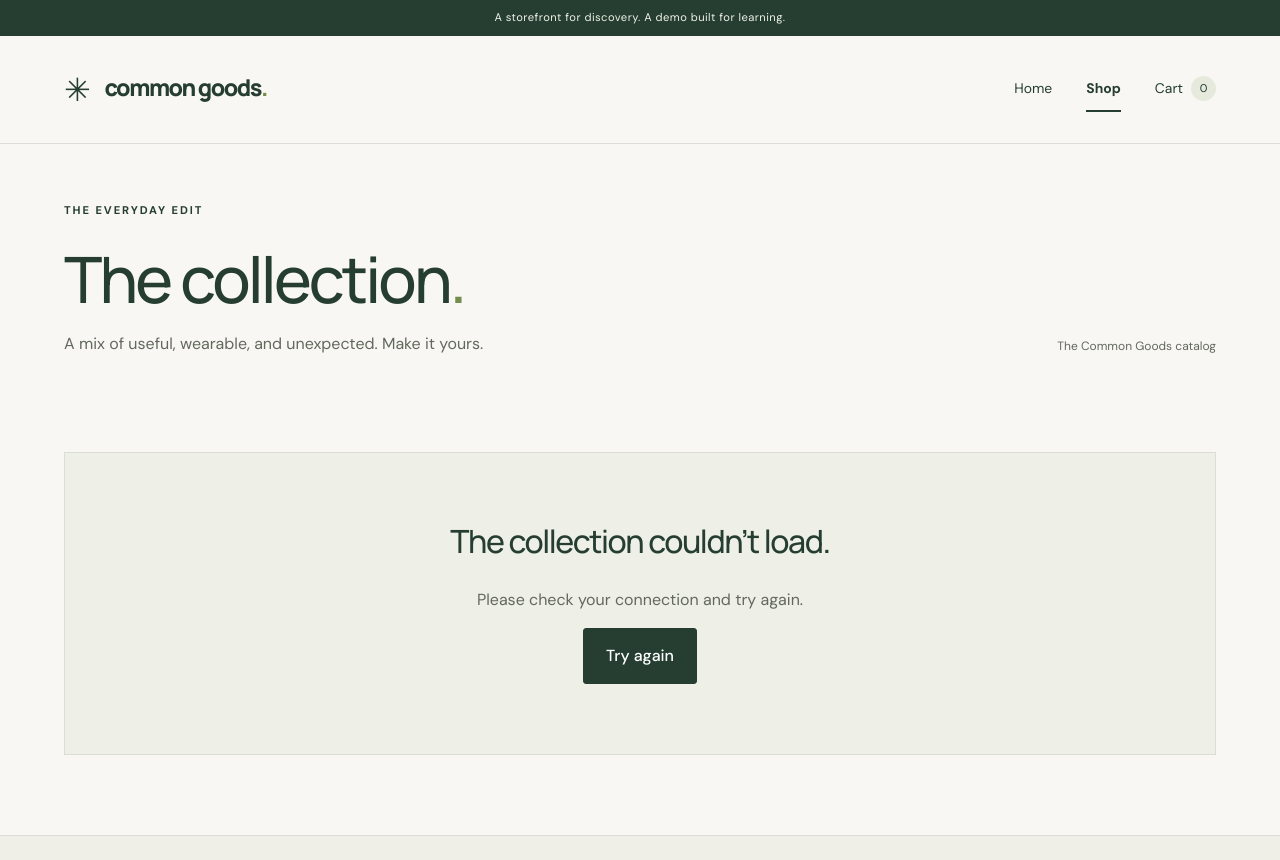
Scenario: catalog and navigation › handles a rejected request and an empty retry
Check: the message that starts with "The collection couldn’t load." is shown, box [64,452,1216,755]
Click the button "Try again": (640, 656) [583,628,697,684]
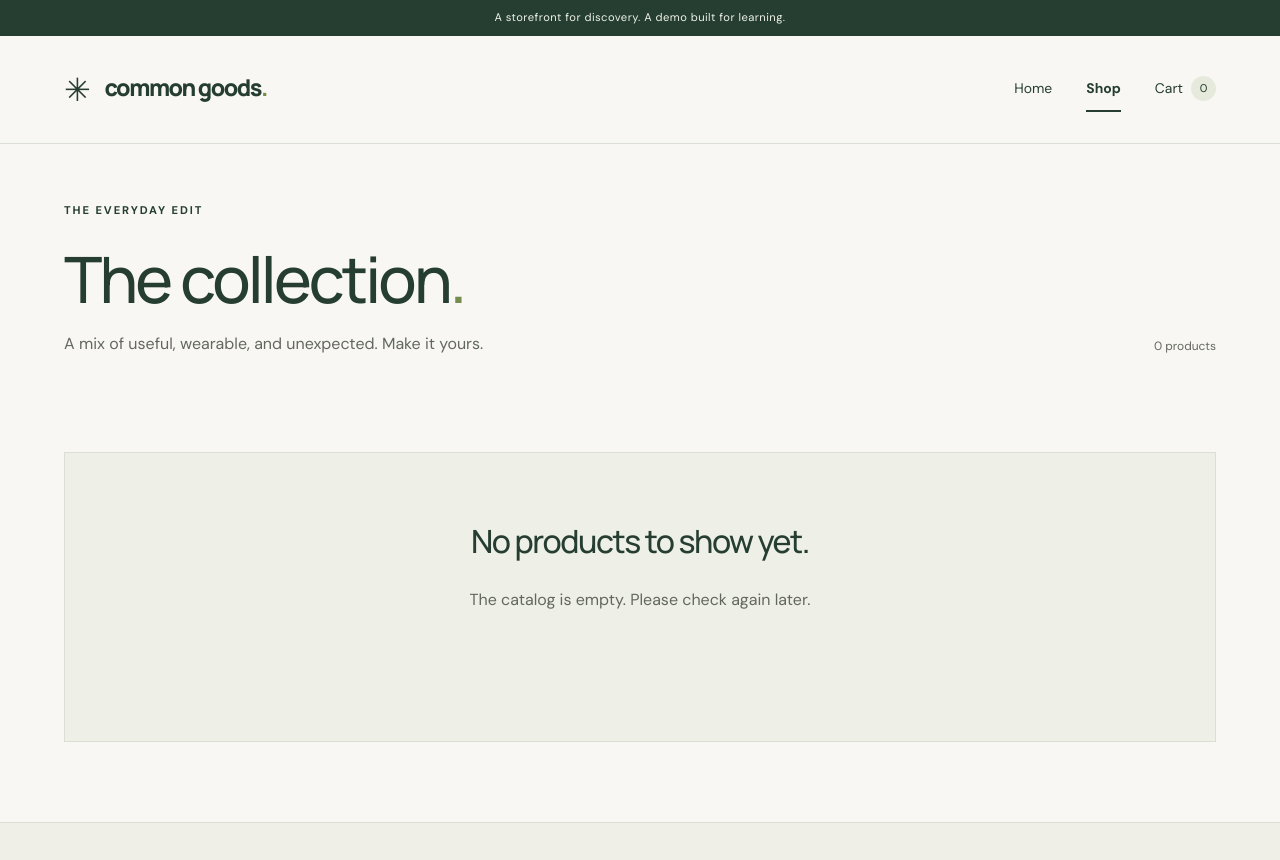
Check: the heading "No products to show yet." is shown, box [471,519,809,563]
